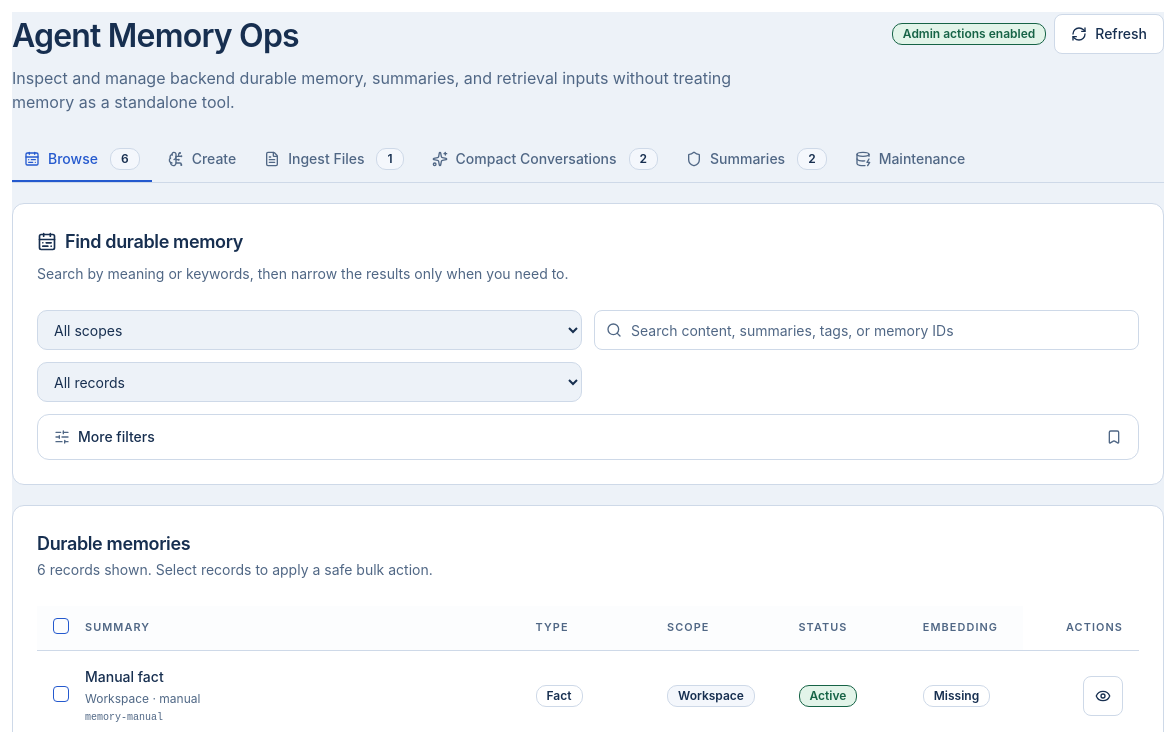
MemoryWorkspace › keeps expert filters collapsed and applies a quick memory view
The width and height of the screenshot is (1176, 732).
Expected: the heading "Agent Memory Ops" is shown, 12,16 -> 299,55
Select "Needs embedding" in the dropdown named "Memory view": point(310, 382) 37,362 -> 582,402
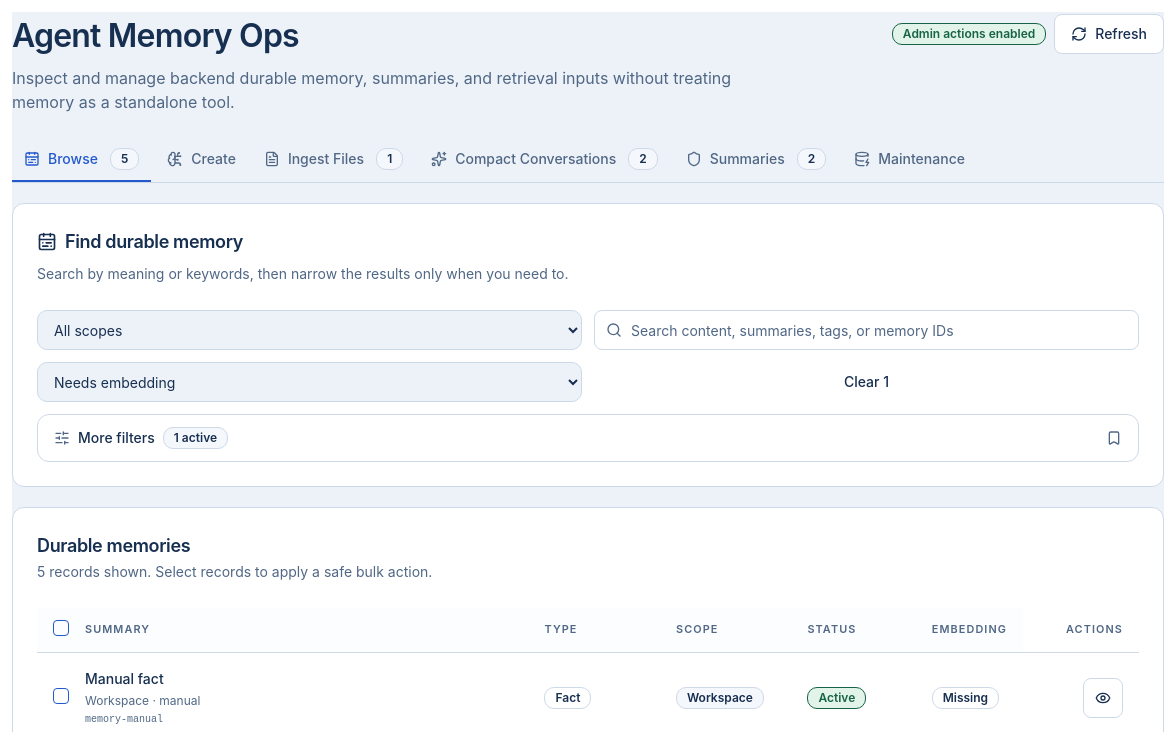
Expected: the button "Clear 1" is shown, 594,362 -> 1139,402
